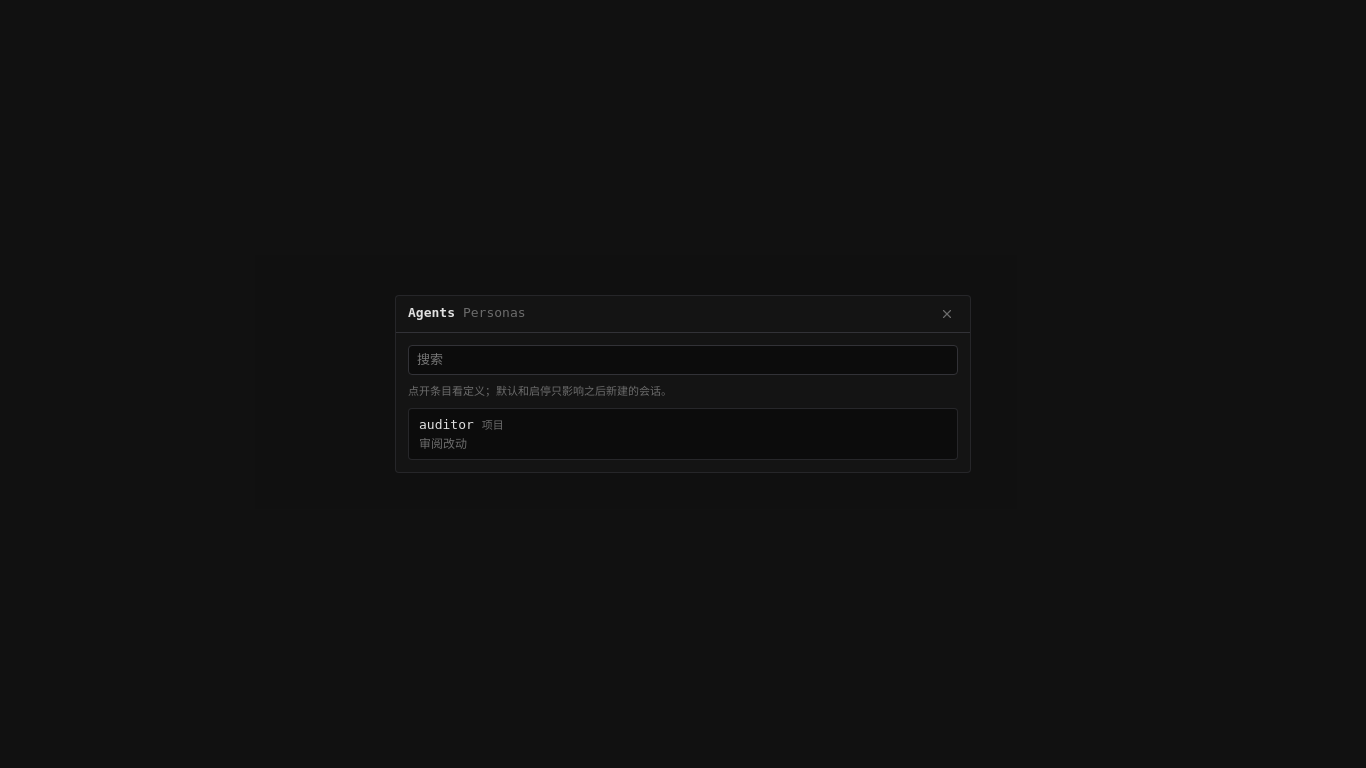
Scenario: AgentsModal 列表行 › 详情里改默认：写配置、提示、并关掉详情
Expected: the text "auditor" is shown, x1=419 y1=415 x2=474 y2=435
Click the button "auditor 项目 审阅改动".
click(446, 424)  # box x1=408 y1=408 x2=958 y2=460
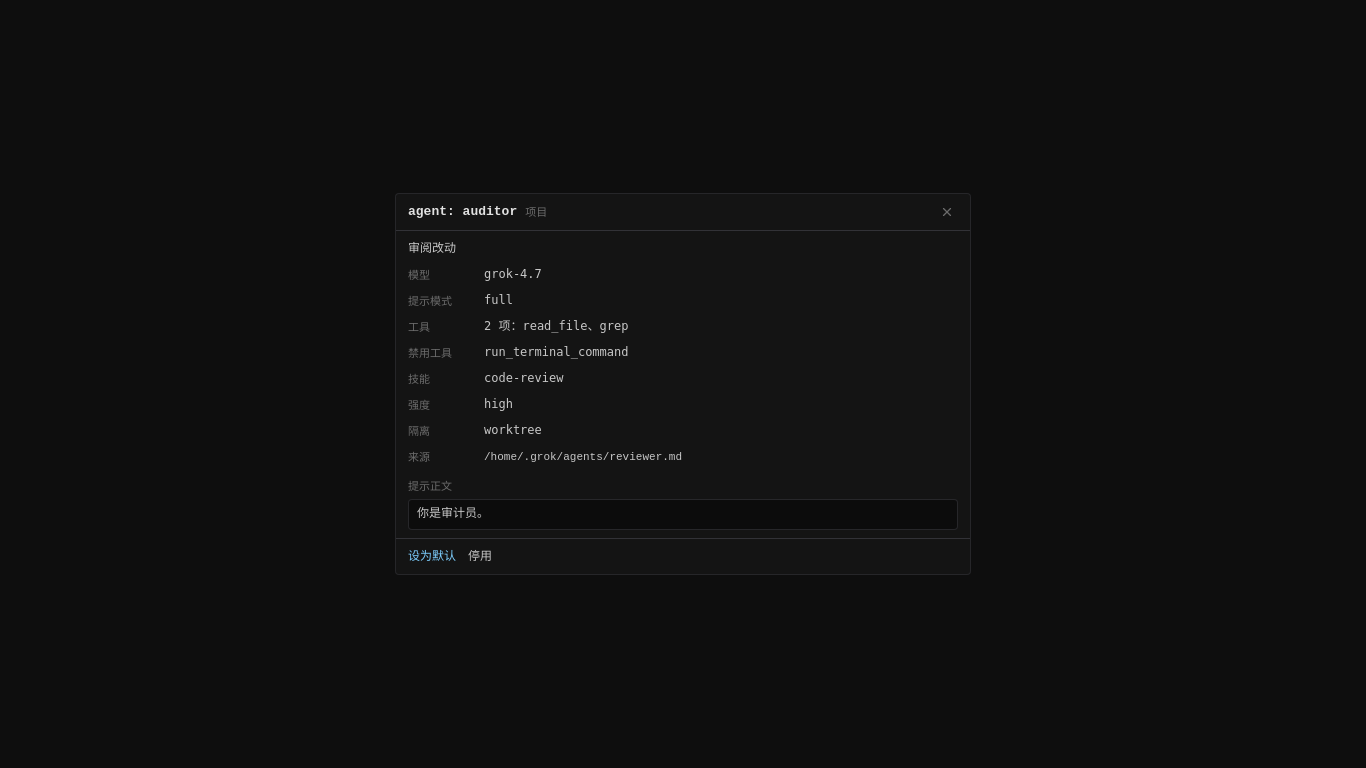
Click the button "设为默认".
click(432, 556)  # box x1=408 y1=547 x2=456 y2=566
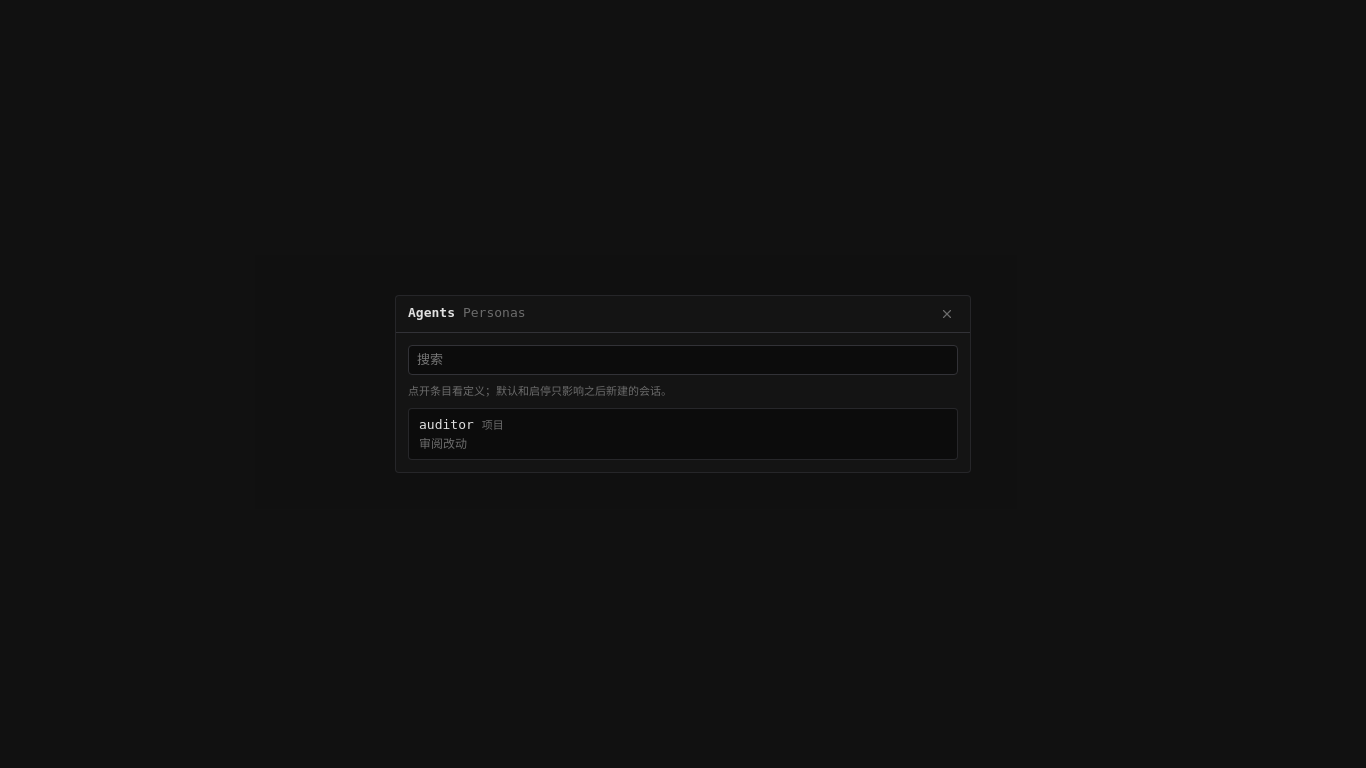
Now the dialog with test id "agent-detail" is gone
